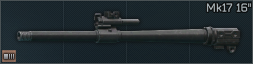FN SCAR-H 7.62x51 16 inch barrel: (0, 0, 253, 64)
